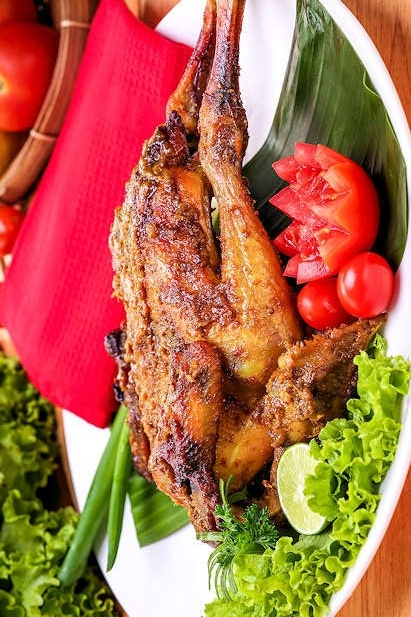ayam_betutu: (104, 1, 387, 527)
